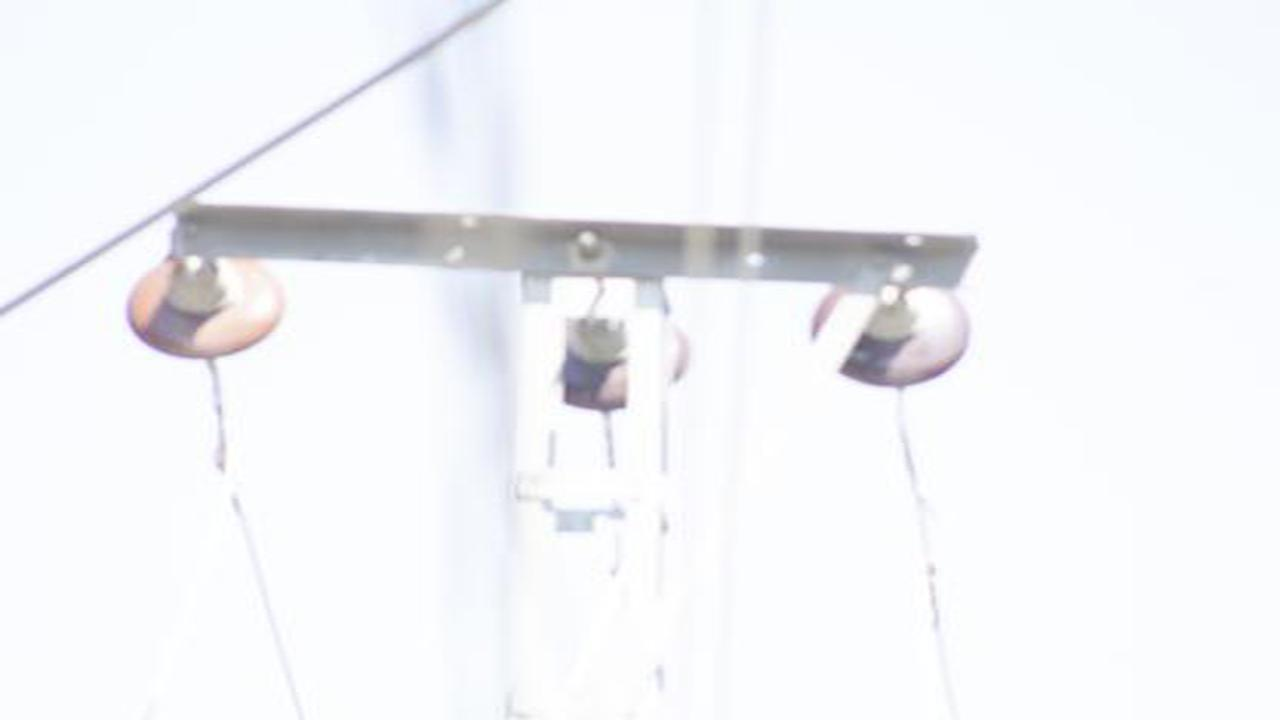insulator_disc: (125, 243, 288, 362), (812, 279, 978, 390), (563, 307, 696, 405)
